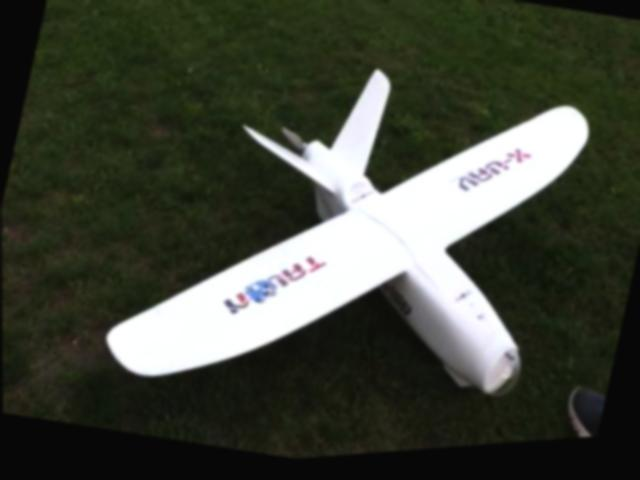uav: (93, 13, 599, 469)
